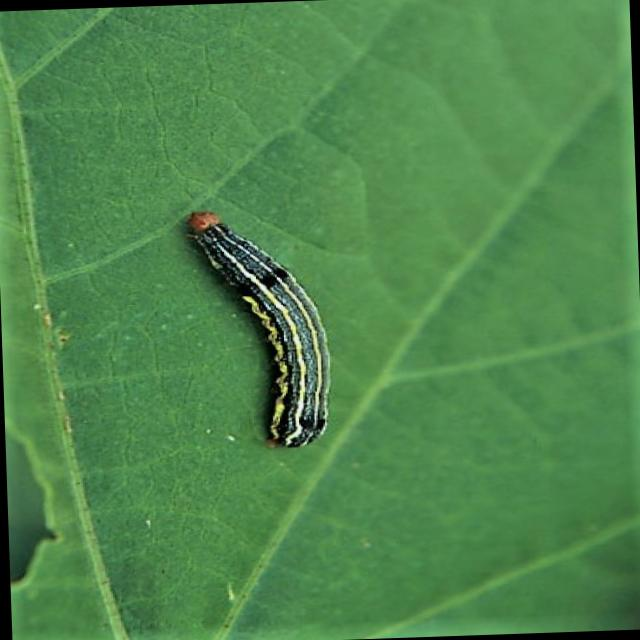Armyworm: (55, 144, 445, 513)
